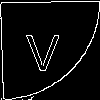V: (25, 25, 61, 72)
